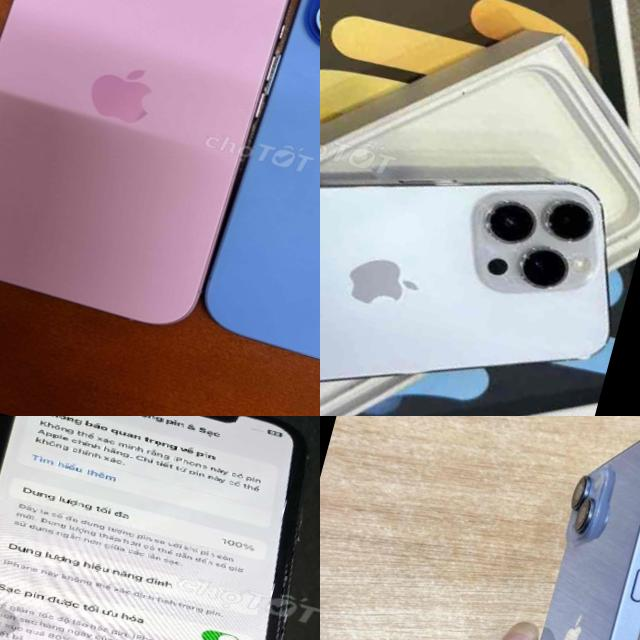gen_14: (320, 50, 640, 416), (469, 416, 640, 640)
gen_16: (0, 0, 307, 345), (193, 0, 320, 407)
gen_x_xs: (0, 416, 320, 640)
